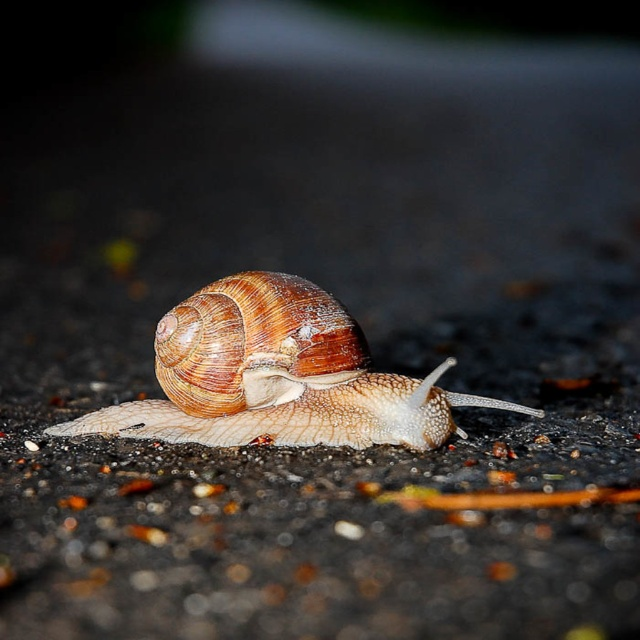Snail: (37, 266, 550, 452)
